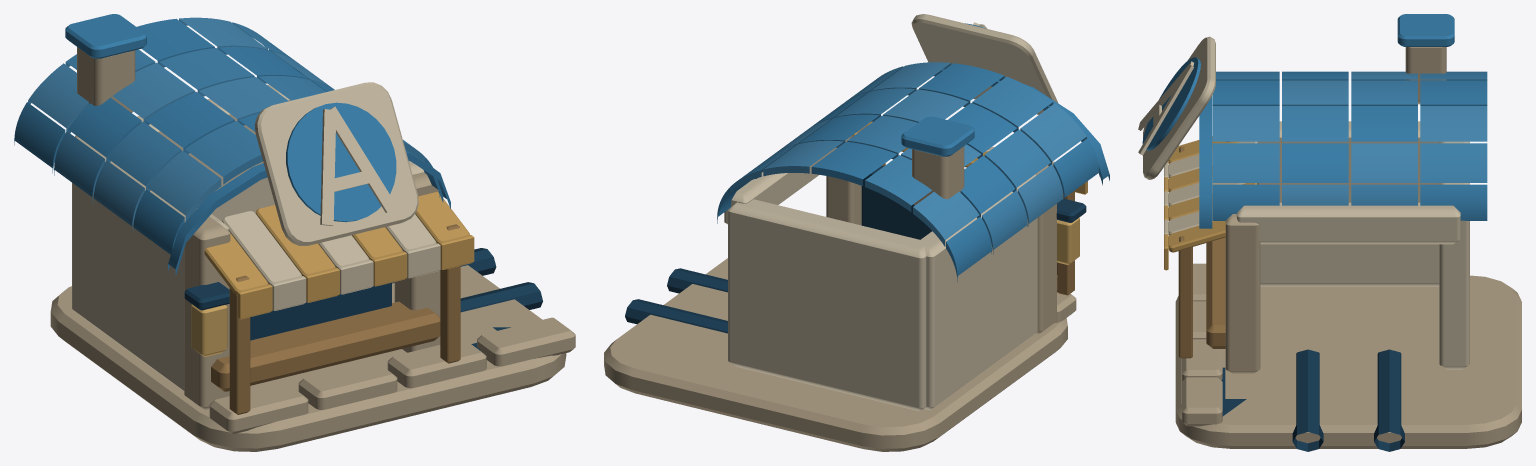
File: guichet_a.glb
The picture shows the model from 3 angles, left to right: view 1: azimuth 30°, elevation 25°; view 2: azimuth 150°, elevation 25°; view 3: azimuth 270°, elevation 25°; orthographic projection. The views are drawn at different scales.
Visible parts, largest first — view 1: Batch_Limestone, Batch_Porcelain, Batch_EnamelA2, Batch_HoneyWood, Batch_EnamelA0, Batch_EnamelA1, Batch_Canvas0, Batch_PorcelainSign, Batch_Canvas1, Batch_AddressA, Batch_PaintedMetal, Batch_EnamelA (+2 smaller); view 2: Batch_Porcelain, Batch_Limestone, Batch_EnamelA0, Batch_EnamelA1, Batch_EnamelA2, Batch_PorcelainSign, Batch_PaintedMetal, Batch_EnamelA, Batch_LanternAmber, Batch_HoneyWood; view 3: Batch_Limestone, Batch_Porcelain, Batch_EnamelA0, Batch_EnamelA1, Batch_EnamelA2, Batch_PaintedMetal, Batch_HoneyWood, Batch_EnamelA, Batch_PorcelainSign, Batch_Canvas0, Batch_Canvas1, Batch_AddressA (+1 smaller).
Part boxes in pixels (box(x1,y1,x2,y2)): Batch_Limestone: box(50, 47, 575, 451); Batch_Porcelain: box(72, 84, 424, 391); Batch_EnamelA2: box(28, 17, 334, 228); Batch_HoneyWood: box(211, 224, 460, 414); Batch_EnamelA0: box(14, 18, 439, 254); Batch_EnamelA1: box(54, 22, 425, 203); Batch_Canvas0: box(204, 191, 474, 319); Batch_PorcelainSign: box(254, 82, 418, 245); Batch_Canvas1: box(222, 211, 440, 310); Batch_AddressA: box(286, 102, 396, 222); Batch_PaintedMetal: box(184, 248, 542, 350); Batch_EnamelA: box(65, 14, 450, 275); Batch_Porcelain: box(724, 137, 1037, 411); Batch_Limestone: box(604, 124, 1076, 451); Batch_EnamelA0: box(717, 63, 1099, 281); Batch_EnamelA1: box(729, 66, 1053, 254); Batch_EnamelA2: box(763, 62, 1086, 246); Batch_PorcelainSign: box(911, 14, 1057, 114); Batch_PaintedMetal: box(625, 166, 1086, 333); Batch_EnamelA: box(870, 69, 1109, 185); Batch_LanternAmber: box(1057, 217, 1079, 264); Batch_HoneyWood: box(882, 163, 1074, 295); Batch_Limestone: box(1175, 47, 1521, 448); Batch_Porcelain: box(1236, 121, 1469, 369); Batch_EnamelA0: box(1212, 71, 1487, 220); Batch_EnamelA1: box(1212, 71, 1487, 205); Batch_EnamelA2: box(1212, 71, 1487, 205); Batch_PaintedMetal: box(1221, 183, 1404, 451); Batch_HoneyWood: box(1178, 146, 1225, 358); Batch_EnamelA: box(1199, 14, 1454, 228); Batch_PorcelainSign: box(1143, 36, 1215, 179); Batch_Canvas0: box(1164, 136, 1257, 270); Batch_Canvas1: box(1164, 141, 1257, 235); Batch_AddressA: box(1142, 57, 1200, 150).
Size of the model in its own units: 1.04 by 0.7756 by 0.9423.
